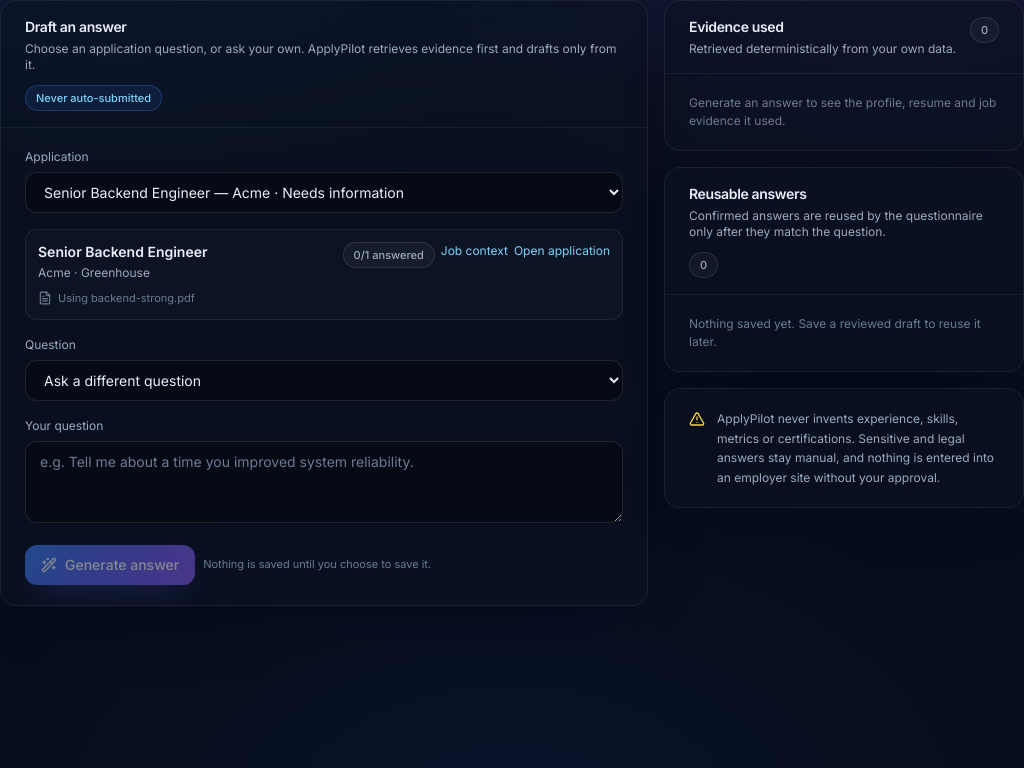
Test: AnswerAssistant › reports conflicts and a provider failure without a draft
Select "Why do you want to work here? (required)" in the dropdown labelled "Question" at (324, 380), box [25,360,623,400]
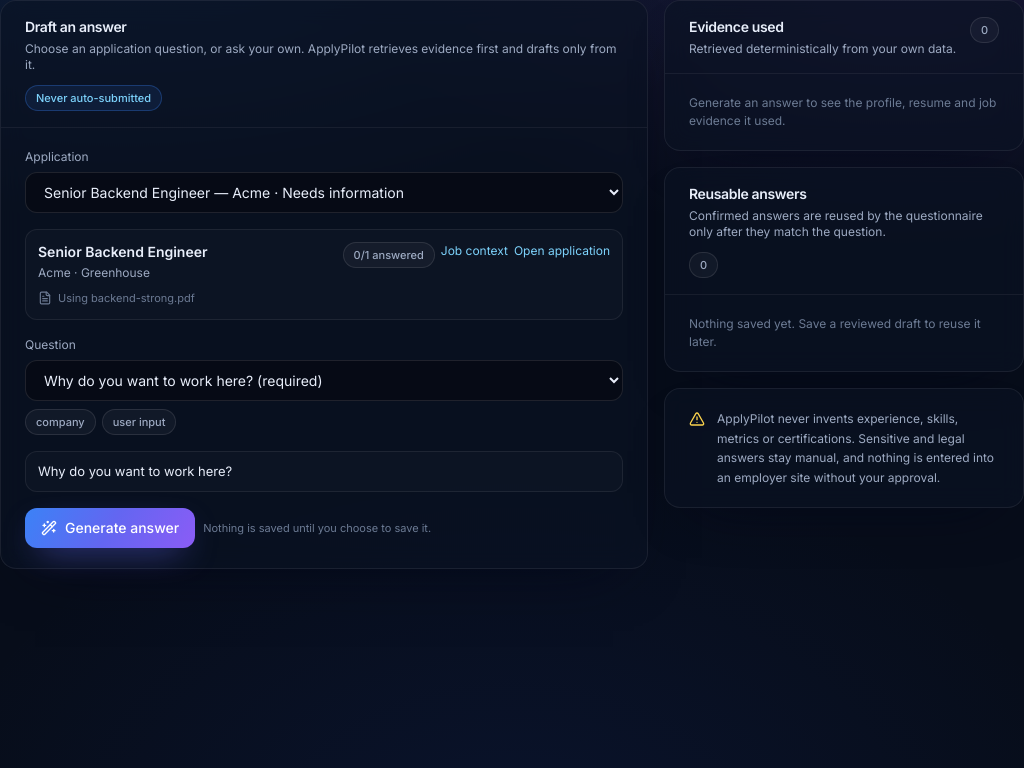
Click the button "Generate answer" at (110, 528), box [25,508,195,548]
(page scrolled)
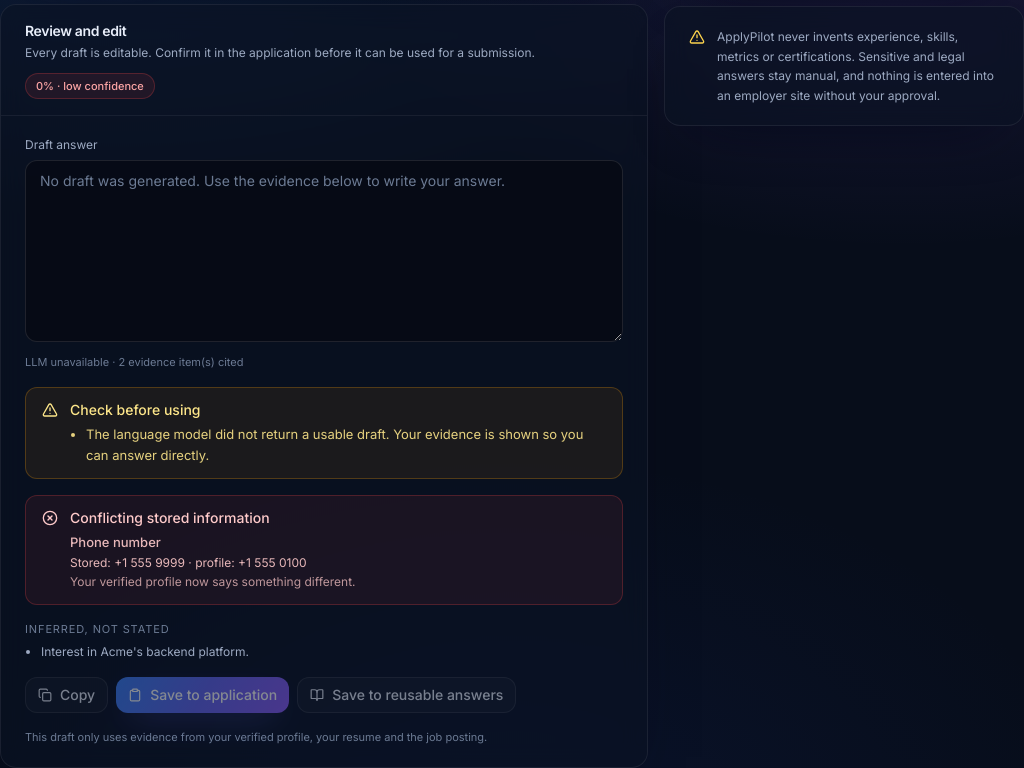
Expected: the text "Conflicting stored information" is shown, [70,509,270,526]
Expected: the text "Check before using" is shown, [70,400,200,418]
Expected: the text "Stored: +1 555 9999 · profile: +1 555 0100" is shown, [70,555,307,570]
